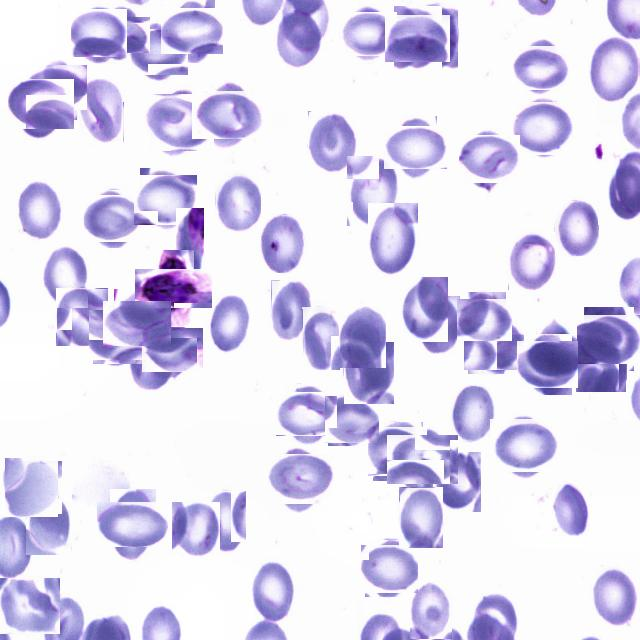difficult: (145, 260, 203, 318)
red blood cell: (147, 90, 210, 154), (494, 414, 556, 476), (346, 155, 400, 226), (368, 203, 418, 278), (198, 84, 259, 145), (393, 430, 453, 490), (588, 34, 640, 102), (272, 449, 331, 508), (575, 326, 627, 392), (12, 75, 70, 134), (104, 496, 162, 554), (580, 310, 638, 368), (108, 294, 166, 352), (0, 578, 60, 634), (136, 172, 194, 228), (76, 77, 124, 144), (515, 100, 572, 156), (4, 459, 60, 516), (308, 111, 358, 174), (466, 316, 522, 372), (344, 342, 394, 404), (390, 11, 446, 66), (252, 559, 300, 623), (26, 489, 72, 555), (91, 307, 146, 362), (28, 60, 82, 116), (56, 288, 108, 346), (402, 277, 448, 342), (462, 132, 516, 187), (371, 424, 425, 479), (521, 337, 575, 392), (414, 4, 458, 71), (130, 26, 184, 80), (165, 4, 219, 58), (339, 306, 386, 368), (129, 328, 175, 391), (433, 452, 481, 512), (536, 318, 577, 388), (280, 388, 334, 441), (145, 324, 199, 377), (42, 246, 88, 308), (363, 542, 416, 595), (86, 192, 139, 245), (388, 122, 442, 174), (72, 8, 126, 60), (592, 565, 638, 626), (215, 171, 261, 232), (508, 232, 556, 290), (276, 10, 324, 68), (16, 180, 63, 239), (342, 8, 394, 61), (448, 385, 496, 441), (172, 502, 220, 558), (399, 487, 443, 548), (516, 42, 567, 93), (260, 214, 304, 273), (206, 295, 250, 354), (204, 491, 246, 552), (327, 394, 378, 444), (554, 200, 599, 256), (301, 306, 340, 370), (176, 208, 204, 296), (271, 280, 311, 341), (418, 296, 460, 354), (460, 295, 509, 344), (410, 582, 452, 639), (98, 11, 145, 58), (551, 481, 590, 536)
